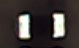COMP: (11, 7, 70, 43)
